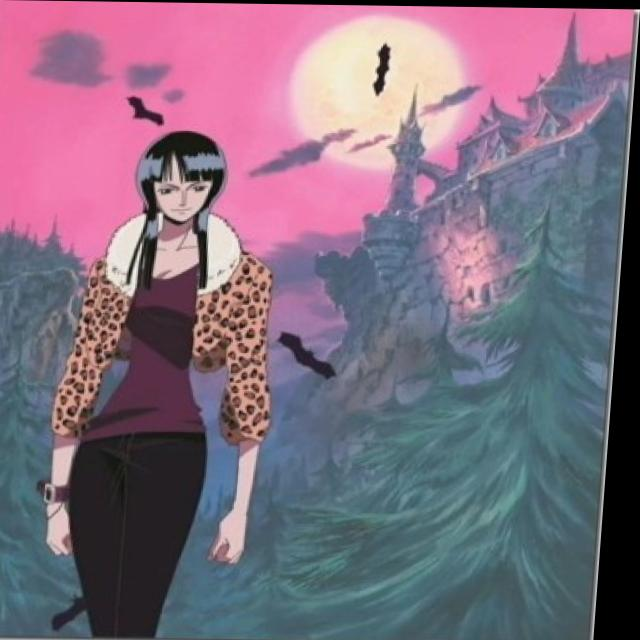NicoRobin: (120, 126, 262, 266)
